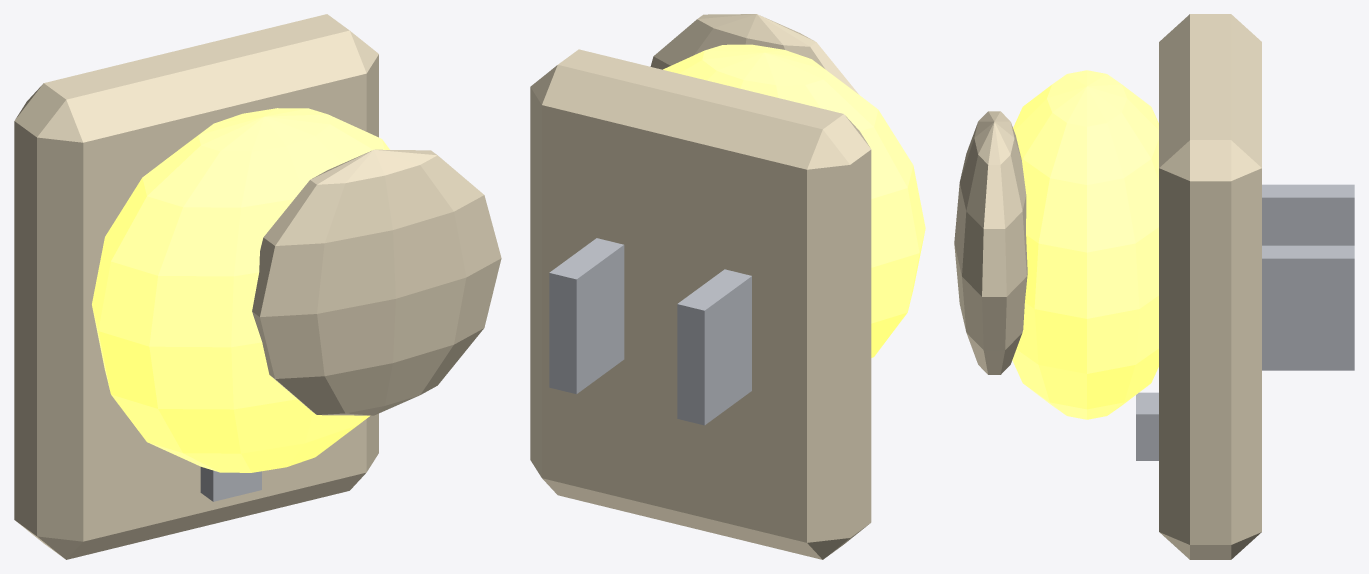
Rendered from night_light.glb.
3 views of the same model, side by side, from view 1: azimuth 30°, elevation 25°; view 2: azimuth 150°, elevation 25°; view 3: azimuth 270°, elevation 25° (orthographic). The views are drawn at different scales.
Visible parts, largest first — view 1: night_light; view 2: night_light; view 3: night_light.
Part boxes in pixels (x1=…): night_light: x1=14, y1=14, x2=501, y2=559; night_light: x1=530, y1=14, x2=925, y2=559; night_light: x1=954, y1=14, x2=1354, y2=559.
Bounding box in the file's own units: 0.0717 × 0.09 × 0.0778.
